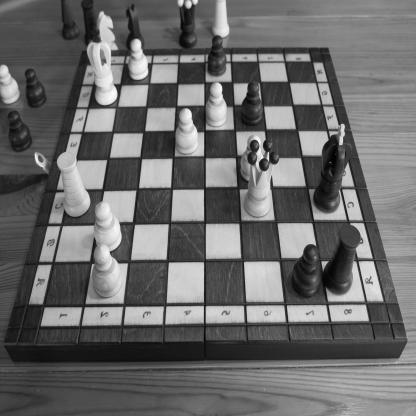black-bishop: (61, 0, 80, 40)
black-king: (313, 122, 352, 214)
black-knight: (125, 2, 145, 50)
black-pawn: (292, 244, 322, 298), (7, 109, 33, 153), (240, 80, 263, 126), (24, 67, 47, 109)
black-queen: (178, 0, 198, 49)
black-rook: (322, 223, 361, 296), (81, 0, 100, 47)
white-king: (86, 24, 119, 107)
white-knight: (97, 10, 119, 51)
white-pawn: (91, 244, 122, 298), (94, 200, 122, 251), (240, 134, 264, 183), (175, 107, 198, 154), (205, 81, 227, 128), (128, 37, 149, 82), (0, 64, 21, 106), (207, 34, 227, 76)
white-queen: (243, 139, 280, 218)
white-rook: (57, 151, 92, 218), (211, 0, 230, 39)
